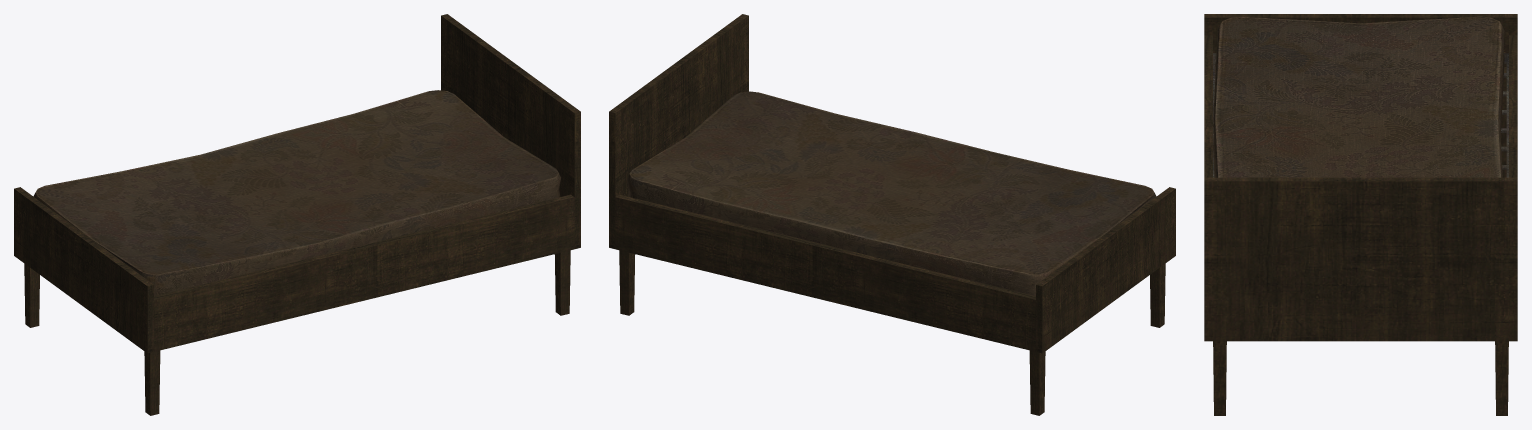
File: bed_3_3.dae
3 renders of one model, left to right at view 1: azimuth 30°, elevation 25°; view 2: azimuth 150°, elevation 25°; view 3: azimuth 270°, elevation 25°, orthographic. The views are drawn at different scales.
Parts seen in each view (by area): view 1: bed_3_3; view 2: bed_3_3; view 3: bed_3_3.
Boxes of the visible parts, bbox=[...] form: bed_3_3: bbox=[14, 14, 580, 415]; bed_3_3: bbox=[609, 14, 1175, 415]; bed_3_3: bbox=[1204, 14, 1517, 415].
Size of the model in its own units: 2.7 by 1.44 by 1.21.
Materials: 3 (3 with a texture image).
